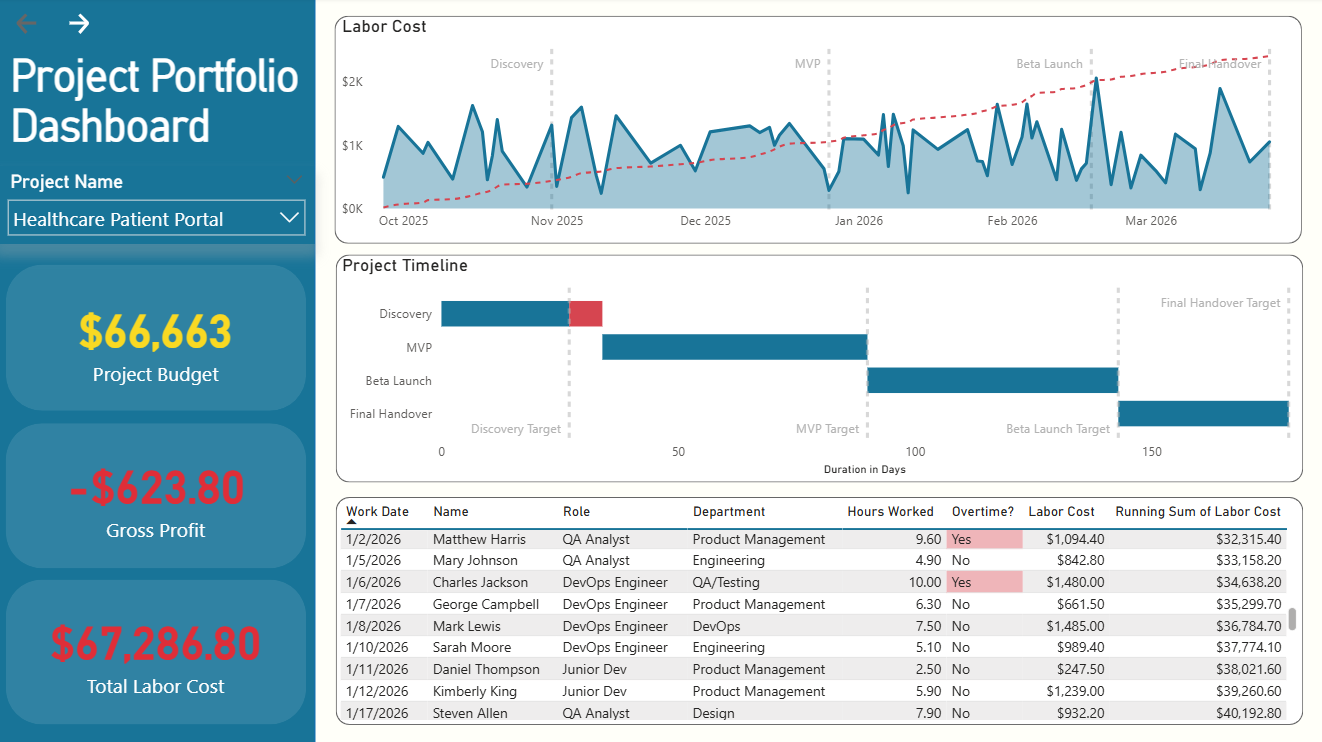

This screenshot's page, from the dashboard's own definition file:
{"tool":"powerbi","page":{"name":"PPM Dashboard","canvas":[1280,720],"ordinal":0},"visuals":[{"type":"shape","title":"Project Cost  - Line Chart with Running Est. Cost","box":[326.2,17.5,933.8,220],"z":0},{"type":"shape","box":[0,0,307.5,720],"z":1000},{"type":"shape","box":[8.8,411.2,290,140],"z":2000},{"type":"shape","title":"Gantt Chart - 4 phases (Discovery, MVP, Beta Launch, Final Handover) dynamic, serves ","box":[327.5,248.8,933.8,220],"z":3000},{"type":"shape","title":"Table: (Columns) Date, Employee Name, Role, Hours Worked, Labor Cost, Overtime?, Running Total Labor Cost","box":[327.5,482.5,933.8,220],"z":4000},{"type":"textbox","box":[8.8,46.2,298.8,116.2],"z":5000},{"type":"actionButton","box":[8.8,6.2,45,40],"z":6000},{"type":"actionButton","box":[53.8,6.2,71.2,40],"z":7000},{"type":"slicer","fields":{"Values":["vw_ProjectDetails_clean.ProjectName"]},"box":[0,162.5,307.5,75],"z":8000},{"type":"shape","box":[8.8,258.8,290,141.2],"z":9000},{"type":"card","fields":{"Values":["Sum(vw_ProjectDetails_clean.TotalProjectBudget)"]},"box":[8.8,267.5,290,125],"z":10000},{"type":"shape","box":[8.8,562.5,290,140],"z":11000},{"type":"card","fields":{"Values":["All Measures.Total Labor Cost"]},"box":[8.8,570,290,125],"z":12000},{"type":"card","fields":{"Values":["All Measures.Gross Profit"]},"box":[8.8,418.8,290,125],"z":13000},{"type":"lineChart","title":"Labor Cost","fields":{"Y":["Sum(vw_ProjectLaborCosts.LaborCost)"],"Category":["Dim_Calendar.Date.Variation.Date Hierarchy.Year","Dim_Calendar.Date.Variation.Date Hierarchy.Month","Dim_Calendar.Date.Variation.Date Hierarchy.Day"],"Y2":["select"]},"box":[328.8,17.5,931.2,216.2],"z":14000},{"type":"barChart","title":"Project Timeline","fields":{"Category":["vw_ProjectMilestones_clean.MilestoneName"],"Y":["All Measures.Gantt Offset","All Measures.On-time - Gantt Duration","All Measures.Delayed - Gantt Duration"]},"box":[328.8,248.8,933.8,218.8],"z":15000},{"type":"tableEx","fields":{"Values":["vw_ProjectLaborCosts.WorkDate","vw_EmployeeDetails.Name","vw_EmployeeDetails.Role","vw_EmployeeDetails.DeptName","vw_ProjectLaborCosts.HoursWorked","vw_ProjectLaborCosts.Overtime?","vw_ProjectLaborCosts.LaborCost","select"]},"box":[326.2,482.5,933.8,220],"z":16000}]}

Visuals, with their boxes in screenshot pixels (x1, y1, x2, y2), scaled from the page's 1280x720 canvas onto the 1322x742 screenshot:
"Project Cost  - Line Chart with Running Est. Cost" shape: {"x1": 337, "y1": 18, "x2": 1301, "y2": 245}
shape: {"x1": 0, "y1": 0, "x2": 318, "y2": 741}
shape: {"x1": 9, "y1": 424, "x2": 309, "y2": 568}
"Gantt Chart - 4 phases (Discovery, MVP, Beta Launch, Final Handover) dynamic, serves " shape: {"x1": 338, "y1": 256, "x2": 1303, "y2": 483}
"Table: (Columns) Date, Employee Name, Role, Hours Worked, Labor Cost, Overtime?, Running Total Labor Cost" shape: {"x1": 338, "y1": 497, "x2": 1303, "y2": 724}
textbox: {"x1": 9, "y1": 48, "x2": 318, "y2": 167}
actionButton: {"x1": 9, "y1": 6, "x2": 56, "y2": 48}
actionButton: {"x1": 56, "y1": 6, "x2": 129, "y2": 48}
slicer - vw_ProjectDetails_clean.ProjectName: {"x1": 0, "y1": 167, "x2": 318, "y2": 245}
shape: {"x1": 9, "y1": 267, "x2": 309, "y2": 412}
card - Sum(vw_ProjectDetails_clean.TotalProjectBudget): {"x1": 9, "y1": 276, "x2": 309, "y2": 404}
shape: {"x1": 9, "y1": 580, "x2": 309, "y2": 724}
card - All Measures.Total Labor Cost: {"x1": 9, "y1": 587, "x2": 309, "y2": 716}
card - All Measures.Gross Profit: {"x1": 9, "y1": 432, "x2": 309, "y2": 560}
"Labor Cost" lineChart: {"x1": 340, "y1": 18, "x2": 1301, "y2": 241}
"Project Timeline" barChart: {"x1": 340, "y1": 256, "x2": 1304, "y2": 482}
tableEx - vw_ProjectLaborCosts.WorkDate x vw_EmployeeDetails.Name: {"x1": 337, "y1": 497, "x2": 1301, "y2": 724}
